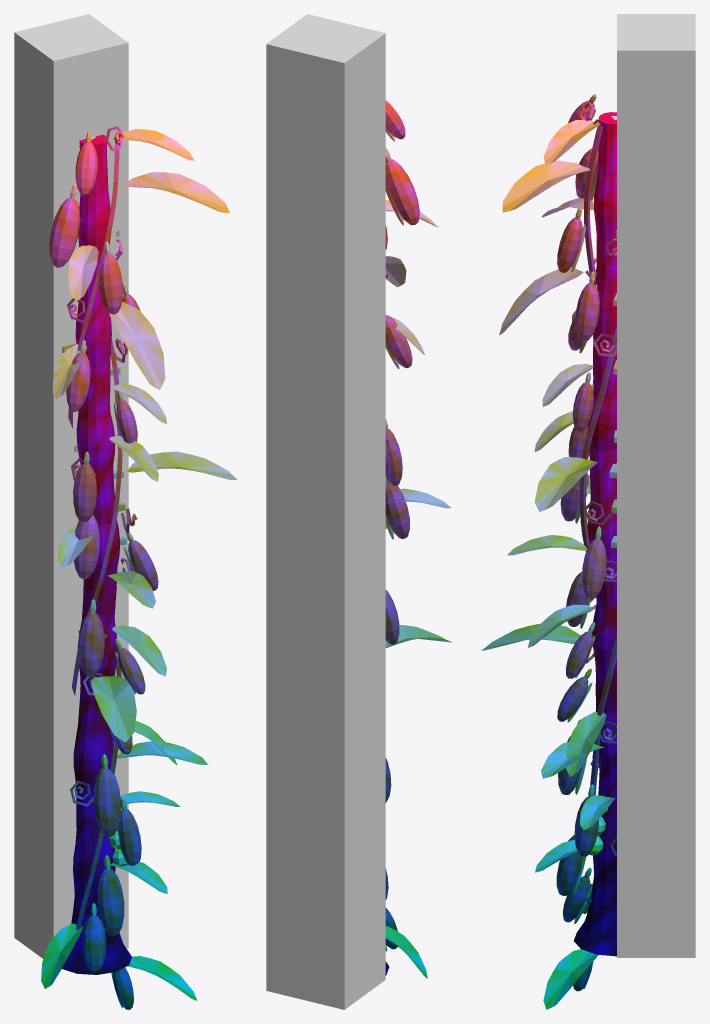
The model's file is Plant_Ladder_04.fbx.
3 views of the same model, side by side, from view 1: azimuth 30°, elevation 25°; view 2: azimuth 150°, elevation 25°; view 3: azimuth 270°, elevation 25° (orthographic). The views are drawn at different scales.
Visible parts, largest first — view 1: CLIMB_0, Plant_Ladder_04; view 2: CLIMB_0, Plant_Ladder_04; view 3: CLIMB_0, Plant_Ladder_04.
Part boxes in pixels (x1,y1,x2,y2): CLIMB_0: (14, 14, 128, 958); Plant_Ladder_04: (41, 126, 237, 1009); CLIMB_0: (266, 14, 385, 1009); Plant_Ladder_04: (385, 100, 452, 978); CLIMB_0: (617, 14, 695, 957); Plant_Ladder_04: (481, 94, 616, 1009).
Size of the model in its own units: 2.54 by 13.3 by 2.72.
